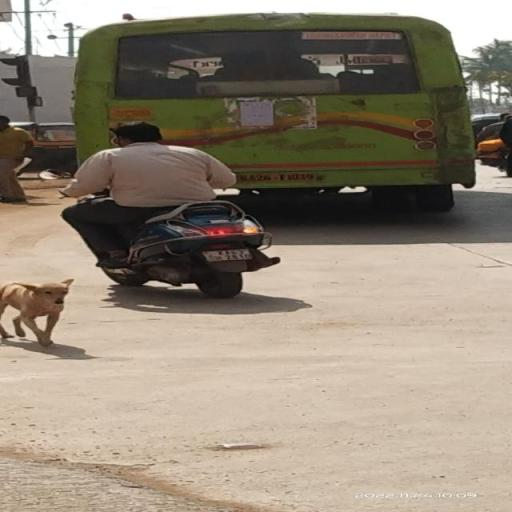bike: (38, 119, 284, 299)
numberplate: (203, 244, 253, 264)
withouthelmet: (113, 122, 160, 144)
